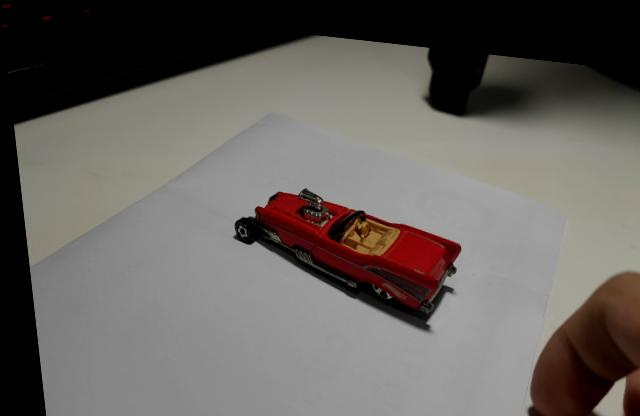03_V8: (230, 185, 458, 324)
